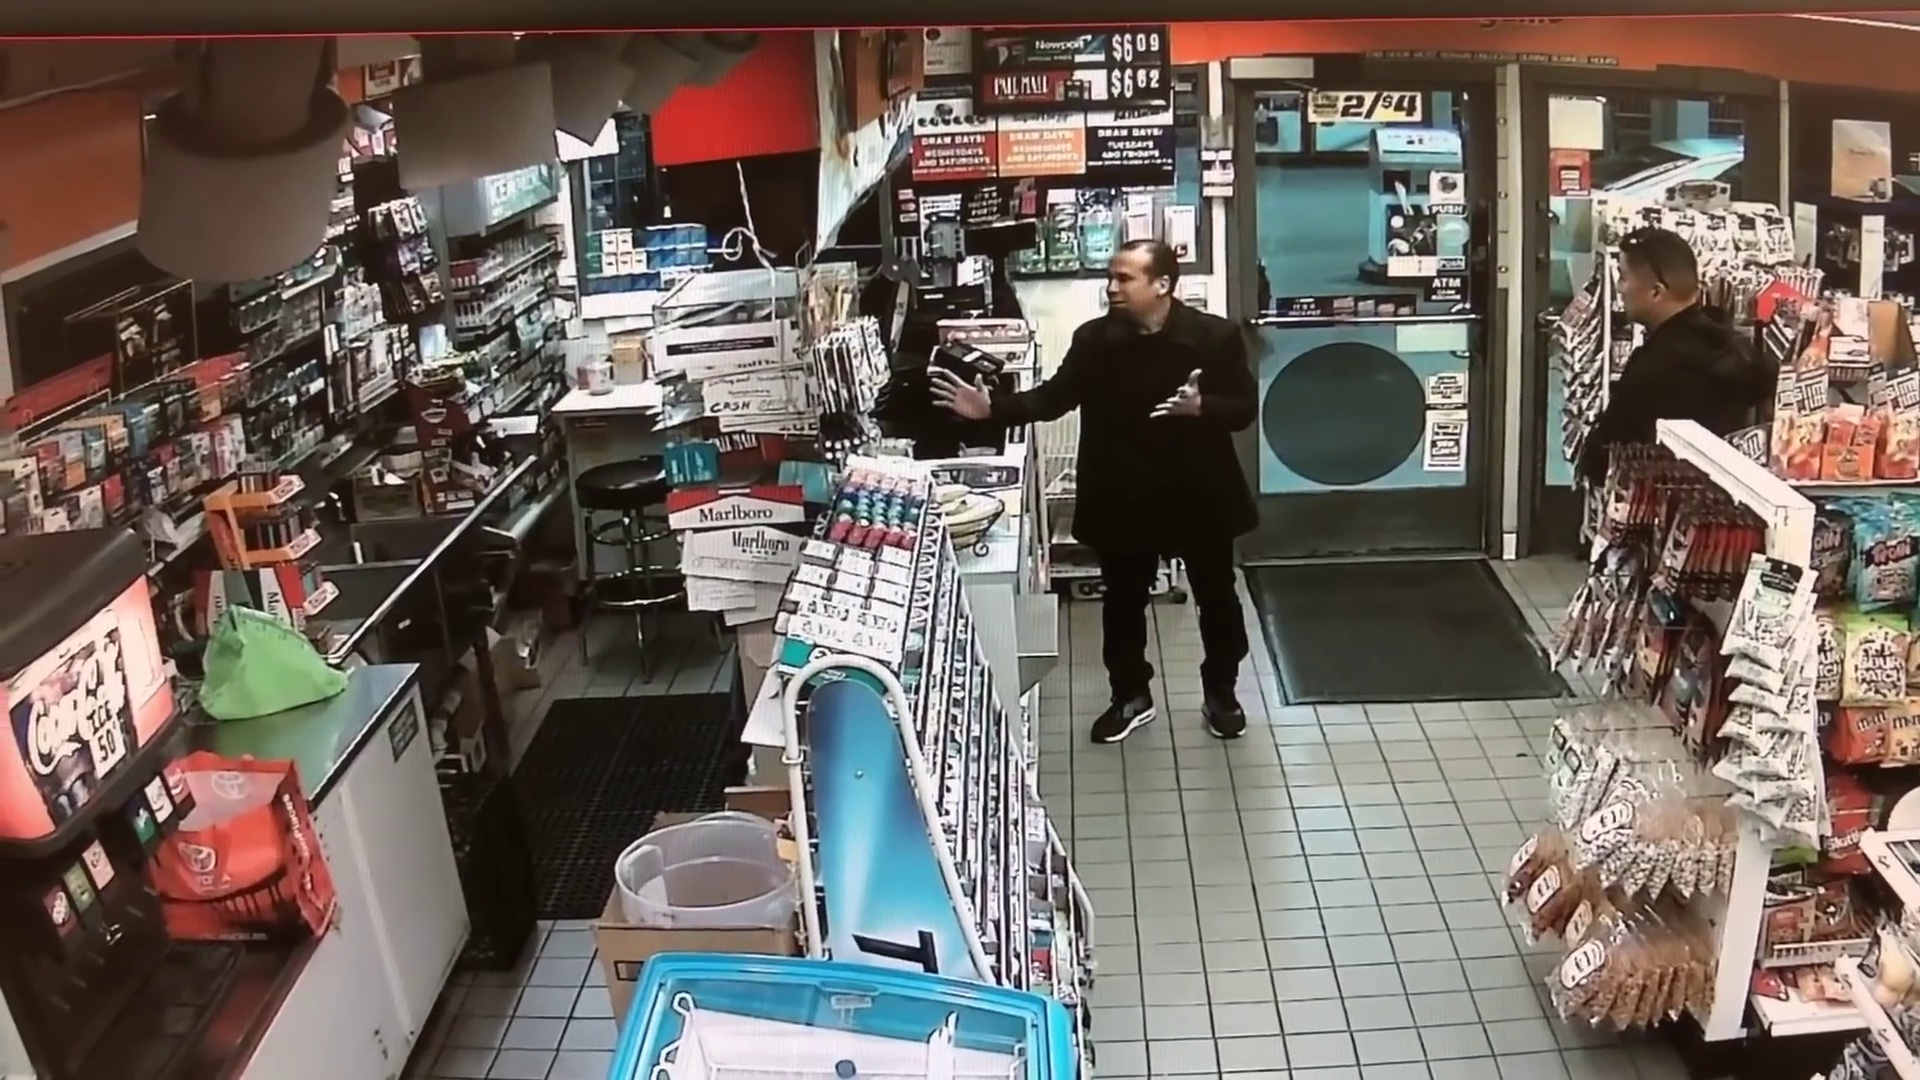face: (1103, 248, 1157, 310), (1615, 250, 1658, 313)
